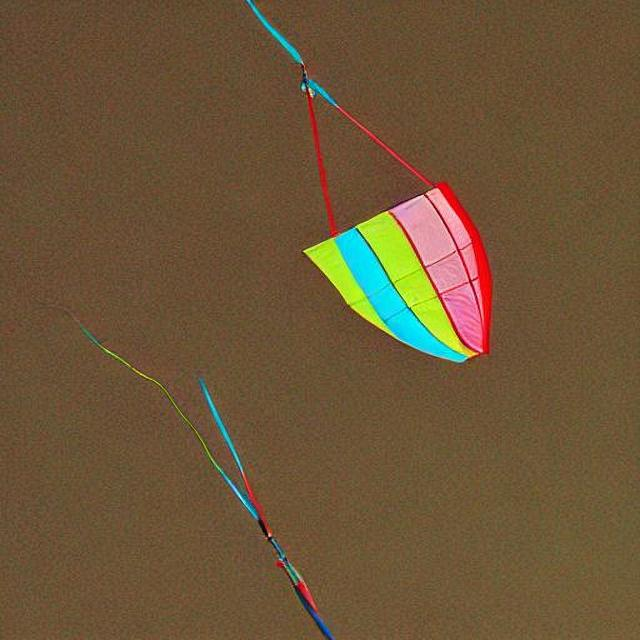floating object: (304, 182, 493, 360)
